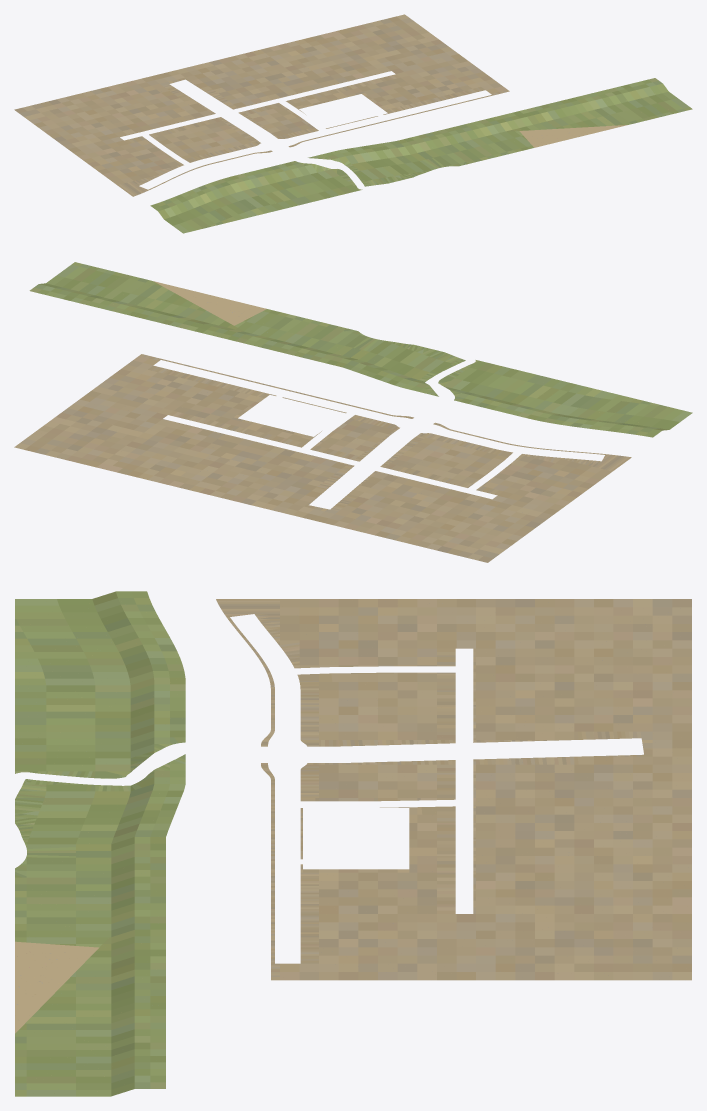
File: ART_KyobashiLand.glb
3 views of the same model, one above another, from view 1: azimuth 30°, elevation 25°; view 2: azimuth 150°, elevation 25°; view 3: azimuth 270°, elevation 25° (orthographic). The views are drawn at different scales.
Visible parts, largest first — view 1: ART_KyobashiLand; view 2: ART_KyobashiLand; view 3: ART_KyobashiLand.
Boxes of the visible parts, <box> form: ART_KyobashiLand: <box>14,14,692,233</box>; ART_KyobashiLand: <box>14,262,692,562</box>; ART_KyobashiLand: <box>15,591,691,1096</box>.
Bounding box in the file's own units: 600 × 4.21 × 345.
